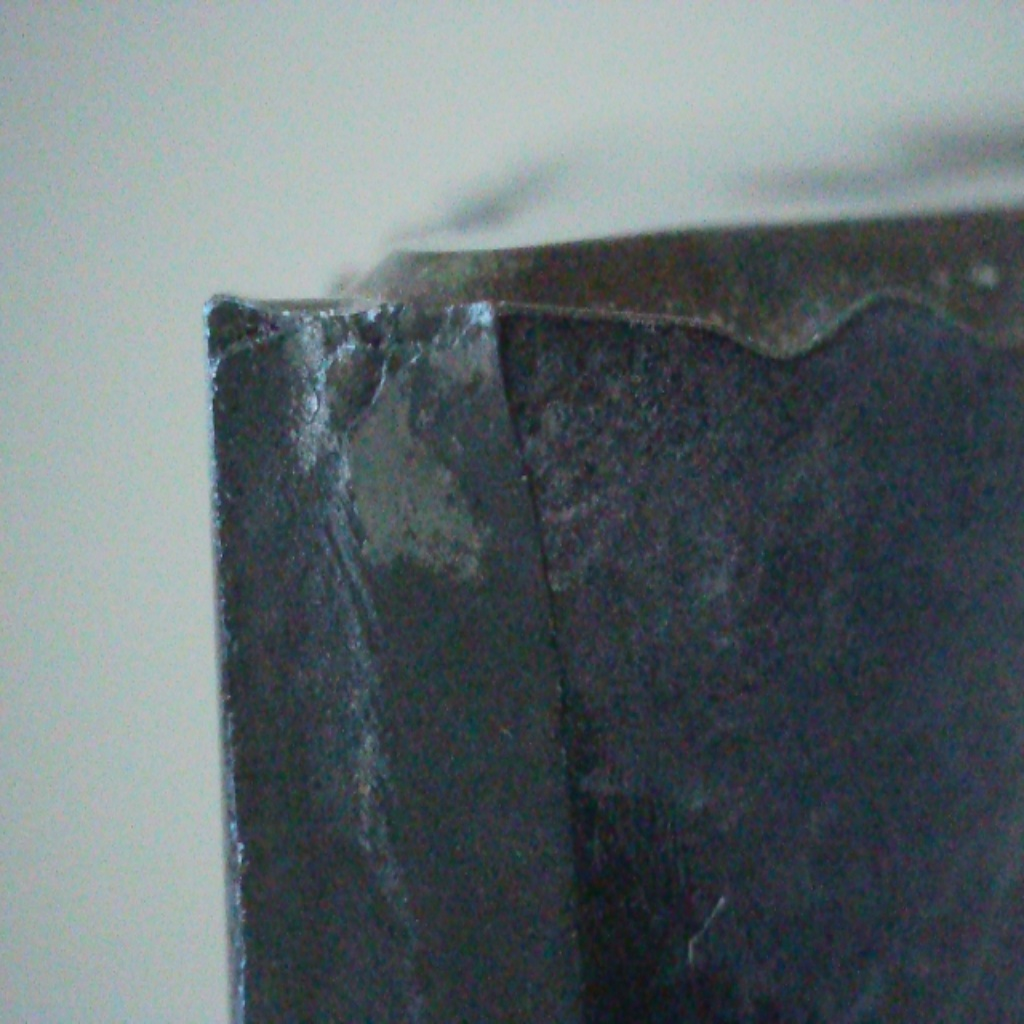flank_wear: (326, 366, 496, 612)
